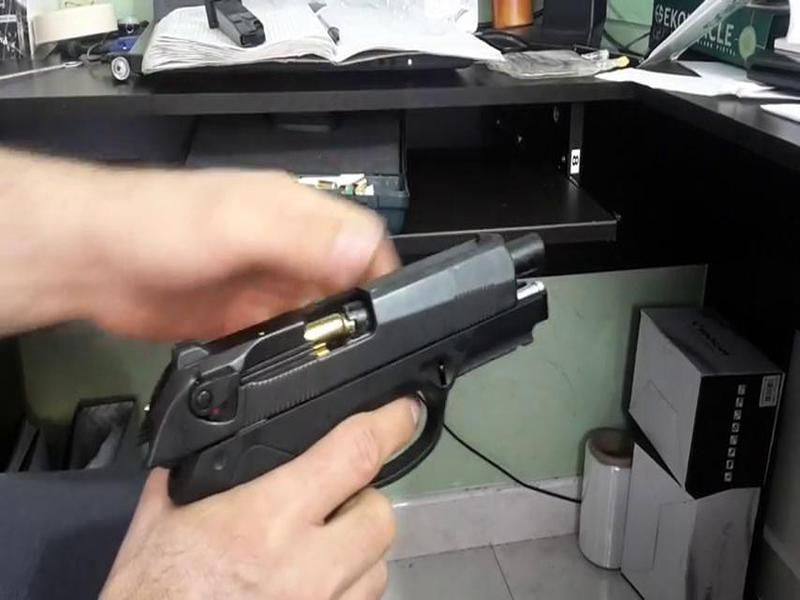Pistola: (136, 217, 554, 498)
